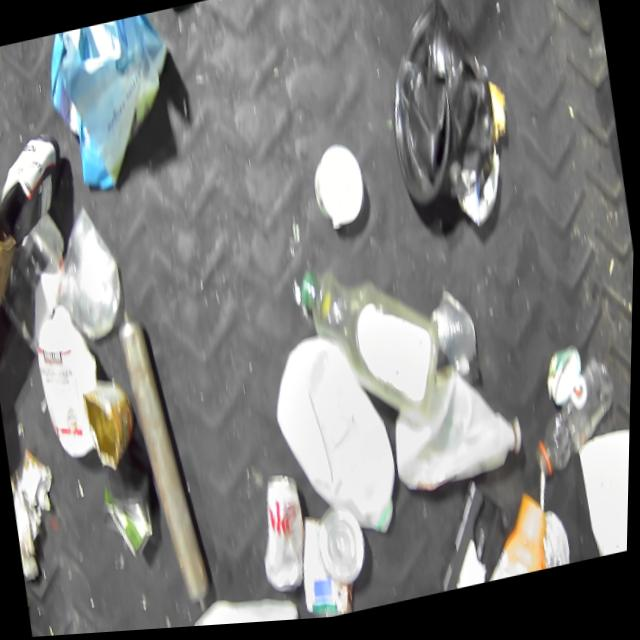can: (254, 473, 318, 602), (80, 372, 145, 477), (315, 504, 374, 593)
milk_jug: (264, 326, 410, 562), (384, 356, 524, 504)
non_white_jug: (375, 0, 508, 216), (469, 496, 557, 592)
plastic_bottle: (524, 362, 628, 489)
